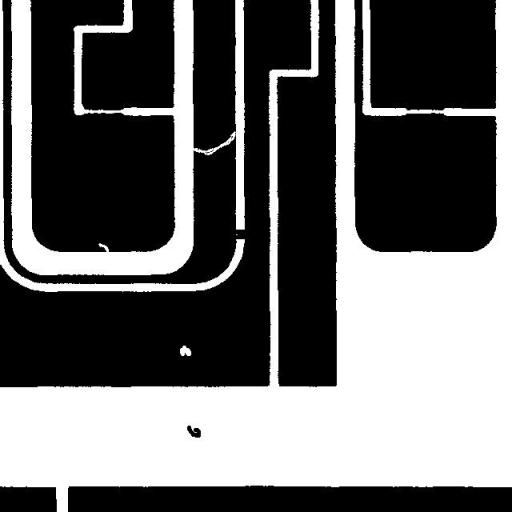copper: (179, 418, 208, 444)
mousebite: (90, 235, 116, 261)
open: (183, 124, 243, 162)
pin-hole: (172, 338, 198, 363)
short: (223, 222, 256, 246)
